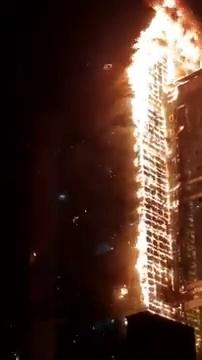fire: (138, 26, 177, 302)
